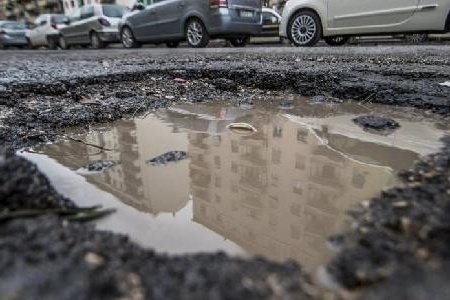pothole: (0, 60, 450, 279)
